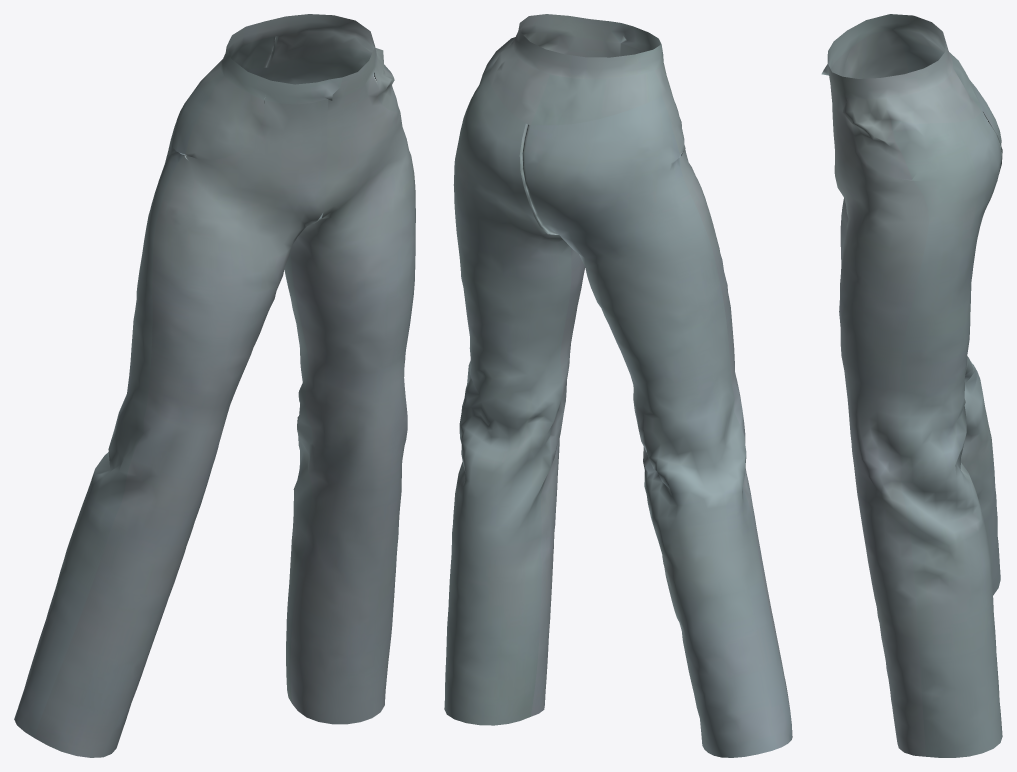
Rendered from YAYA broek blauw.fbx.
3 views of the same model, side by side, from view 1: azimuth 30°, elevation 25°; view 2: azimuth 150°, elevation 25°; view 3: azimuth 270°, elevation 25° (orthographic). The views are drawn at different scales.
Parts seen in each view (by area): view 1: Blauwe broek clo file; view 2: Blauwe broek clo file; view 3: Blauwe broek clo file.
Boxes of the visible parts, x1,y1,x2,y2 form: Blauwe broek clo file: (14,14,415,757); Blauwe broek clo file: (444,14,792,757); Blauwe broek clo file: (821,14,1002,757).
Bounding box in the file's own units: 52.96 × 97.85 × 24.03.
Materials: 1 (1 with a texture image).
